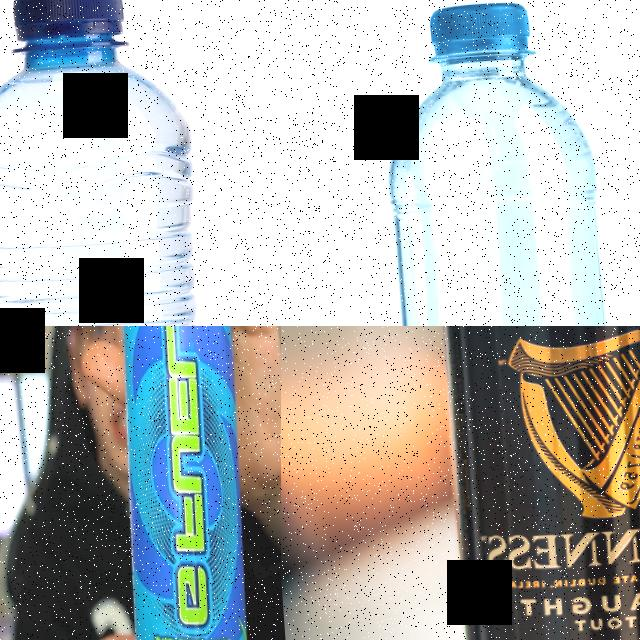bottle: (372, 0, 622, 326), (0, 0, 218, 326)
can: (436, 326, 640, 640), (104, 326, 260, 640)
